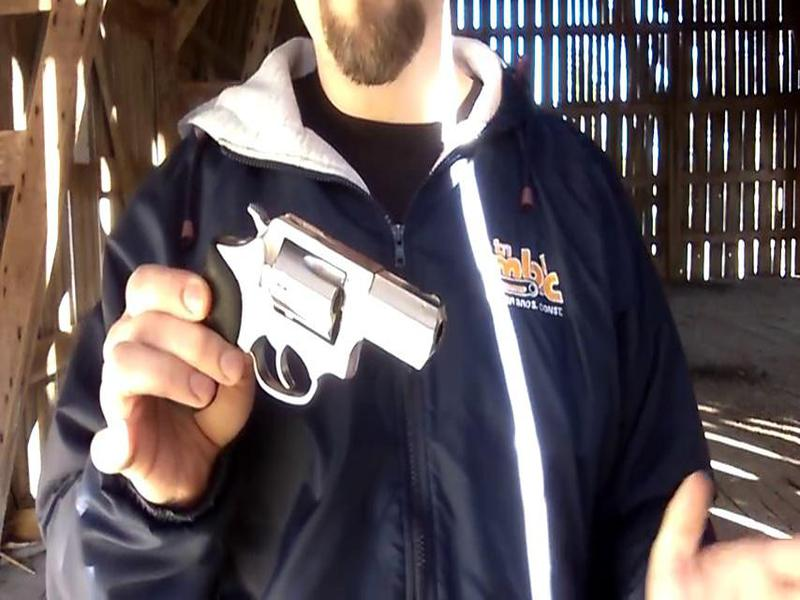Revolver: (153, 170, 445, 429)
